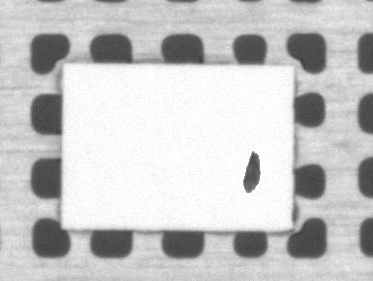DIE_INK: (241, 150, 260, 192)
